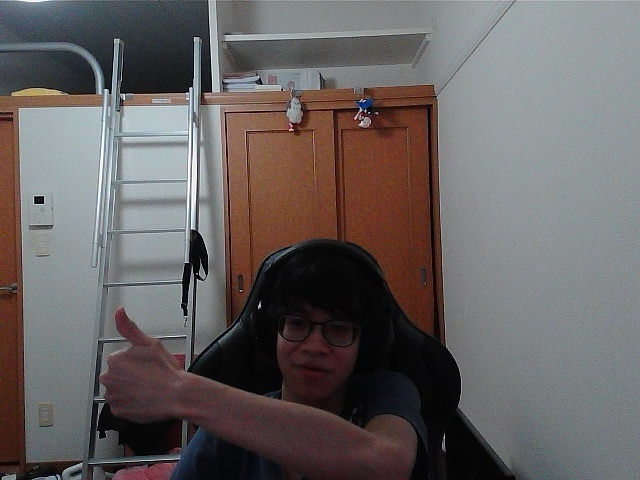thumb_up: (106, 312, 173, 413)
